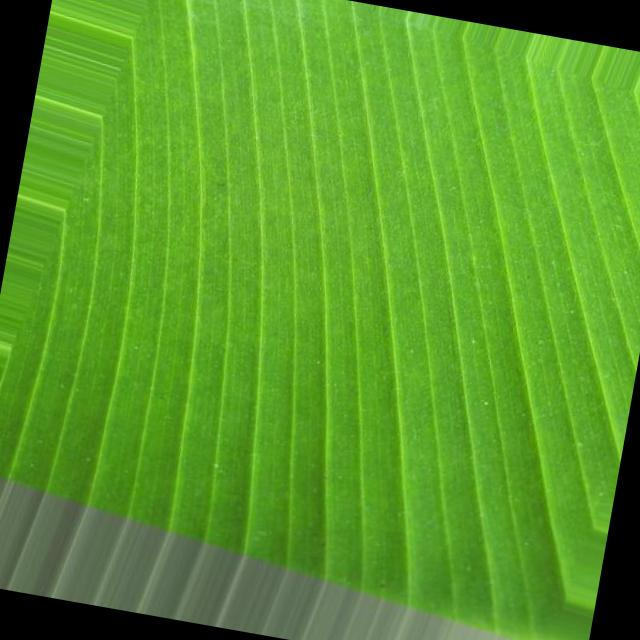Banana_Healthy: (142, 80, 601, 521)
